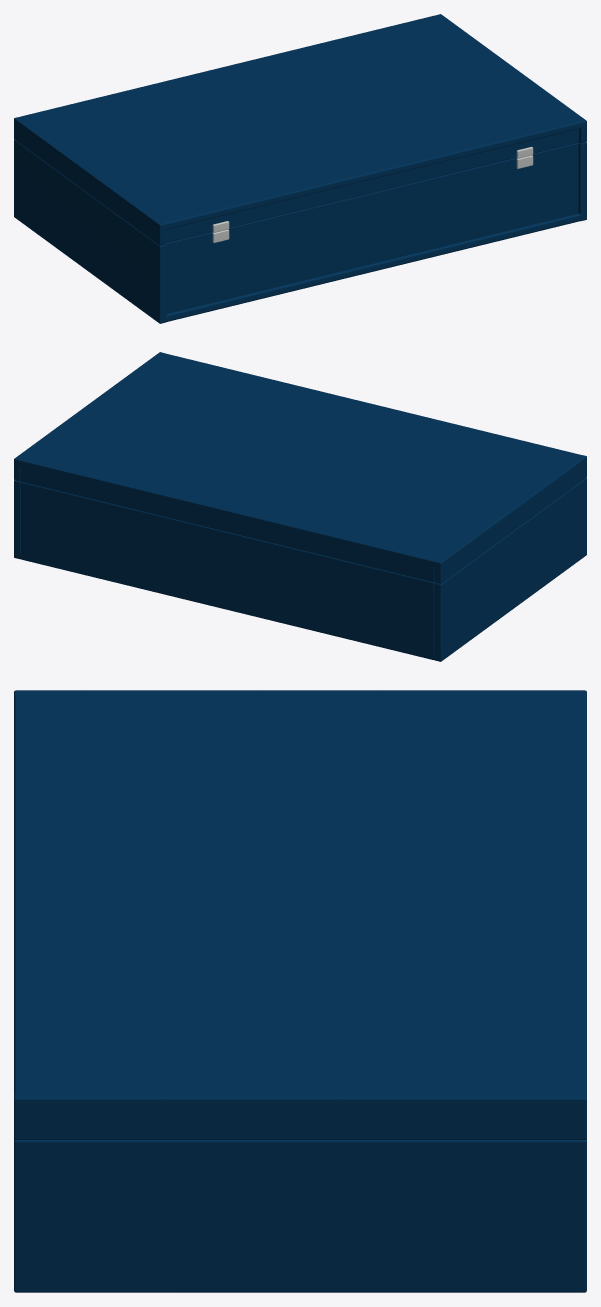
Rendered from pockets-volume-6-storage.glb.
3 renders of one model, top to bottom at view 1: azimuth 30°, elevation 25°; view 2: azimuth 150°, elevation 25°; view 3: azimuth 270°, elevation 25°, orthographic. The views are drawn at different scales.
Visible parts, largest first — view 1: Lid_top, Case_end.001, Case_side, Lid_end.001, Case_base, Lid_side, Case_side.001, Lid_end; view 2: Lid_top, Case_end, Case_side, Lid_end, Lid_side, Case_base, Case_side.001; view 3: Lid_top, Case_side.001, Lid_side.001, Case_base, Lid_end, Lid_side.
Boxes of the visible parts, box(x1,y1,x2,y2) form: Lid_top: box(14, 14, 586, 229); Case_end.001: box(166, 143, 578, 313); Case_side: box(14, 139, 166, 323); Lid_end.001: box(164, 129, 579, 242); Case_base: box(106, 213, 585, 322); Lid_side: box(14, 117, 165, 245); Case_side.001: box(578, 142, 586, 221); Lid_end: box(21, 15, 436, 116); Lid_top: box(14, 352, 586, 567); Case_end: box(21, 482, 434, 659); Case_side: box(434, 477, 586, 661); Lid_end: box(20, 460, 434, 582); Lid_side: box(435, 455, 586, 583); Case_base: box(15, 552, 549, 660); Case_side.001: box(14, 480, 20, 559); Lid_top: box(14, 691, 586, 1109); Case_side.001: box(14, 1139, 586, 1292); Lid_side.001: box(14, 1093, 586, 1139); Case_base: box(17, 1282, 583, 1290); Lid_end: box(574, 696, 586, 1093); Lid_side: box(14, 690, 586, 696).
Size of the model in its own units: 0.3429 by 0.0762 by 0.2032.
Materials: 2 (1 with a texture image).
